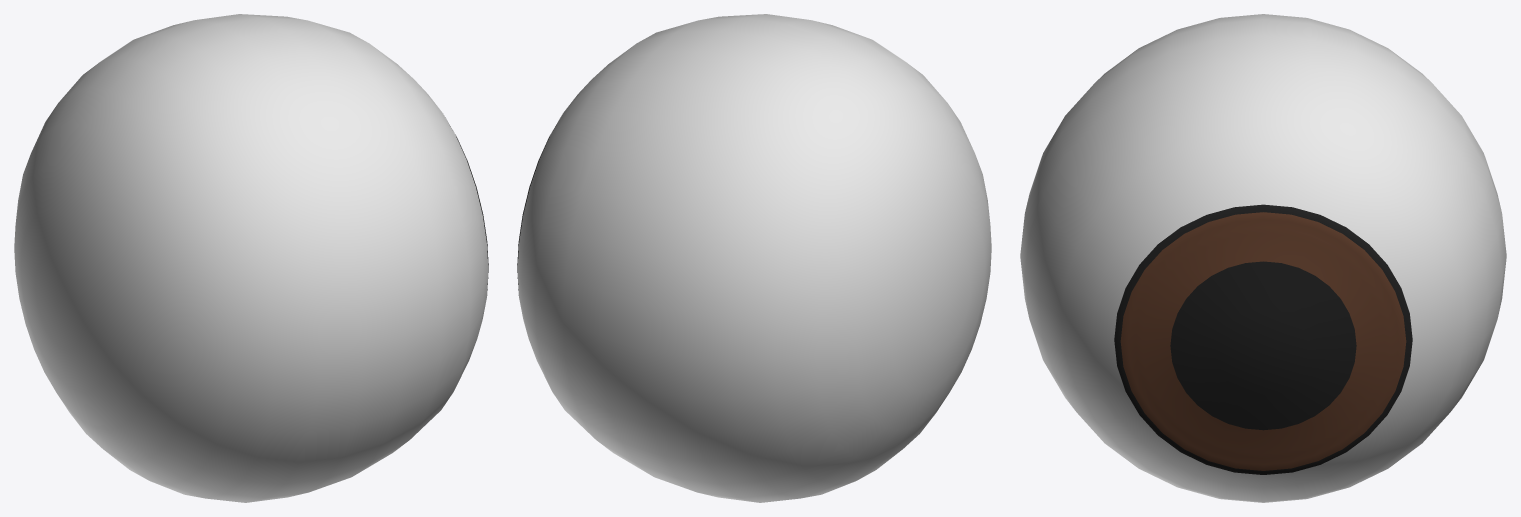
Rendered from eyeball.fbx.
3 renders of one model, left to right at view 1: azimuth 30°, elevation 25°; view 2: azimuth 150°, elevation 25°; view 3: azimuth 270°, elevation 25°, orthographic.
Visible parts, largest first — view 1: Sphere; view 2: Sphere; view 3: Sphere.
Part boxes in pixels (x1,y1,x2,y2): Sphere: [14, 14, 488, 502]; Sphere: [517, 14, 991, 502]; Sphere: [1020, 14, 1506, 502].
Bounding box in the file's own units: 346 × 380 × 380.
Materials: 1 (1 with a texture image).
